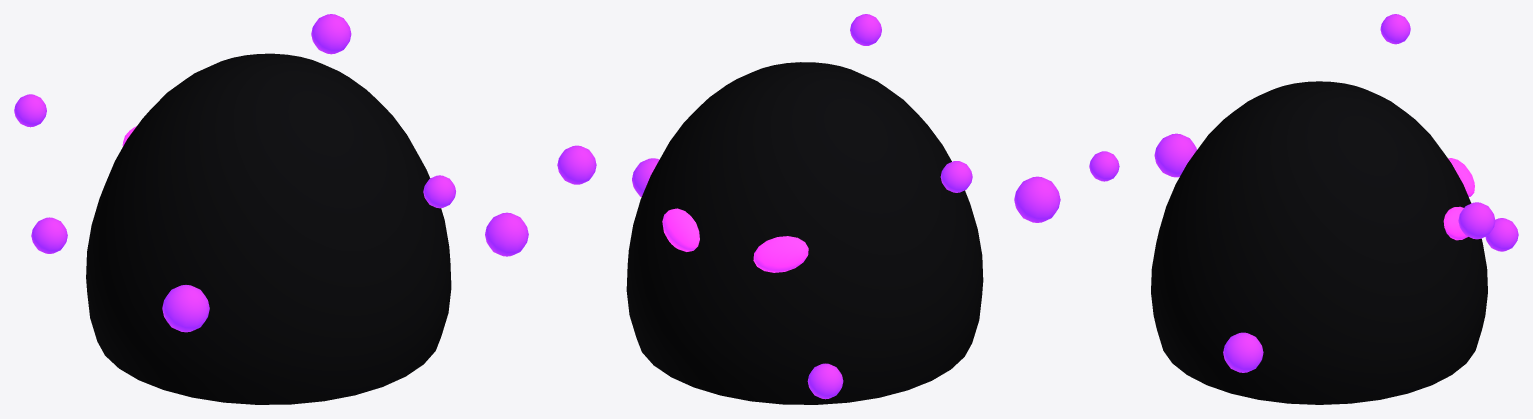
File: Void.glb
3 renders of one model, left to right at view 1: azimuth 30°, elevation 25°; view 2: azimuth 150°, elevation 25°; view 3: azimuth 270°, elevation 25°, orthographic. The views are drawn at different scales.
Visible parts, largest first — view 1: Body, Orbs; view 2: Body, Orbs, Eyes; view 3: Body, Orbs, Eyes.
Boxes of the visible parts, x1,y1,x2,y2 form: Body: (86, 53, 451, 404); Orbs: (14, 14, 528, 332); Body: (626, 62, 983, 404); Orbs: (557, 14, 1060, 399); Eyes: (662, 208, 808, 272); Body: (1151, 81, 1487, 404); Orbs: (1089, 14, 1518, 372); Eyes: (1443, 158, 1474, 240).
Size of the model in its own units: 7 by 4.16 by 6.62.
